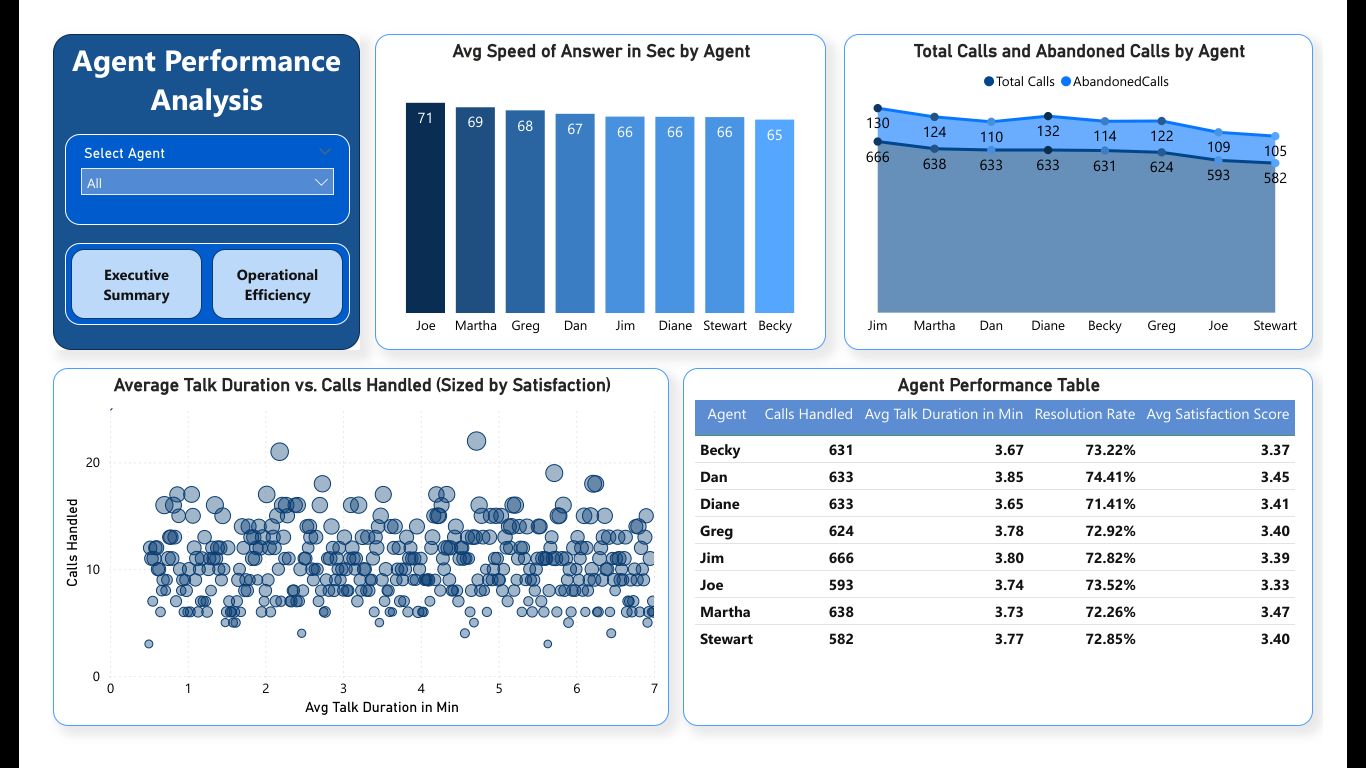

Layout of this report page (visuals, bound fields, positions):
{"tool":"powerbi","page":{"name":"Agent Performance","canvas":[1280,720],"ordinal":2},"visuals":[{"type":"tableEx","title":"Agent Performance Table","fields":{"Values":["CallCentreDataTable.Agent","MeasuresTable.CallsHandled","Avg(CallCentreDataTable.AvgTalkDuration_in_min)","MeasuresTable.Resolution Rate","MeasuresTable.Avg Satisfaction Score"]},"box":[640,344.1,630.4,357.8],"z":0},{"type":"stackedAreaChart","title":"Total Calls and Abandoned Calls by Agent","fields":{"Category":["CallCentreDataTable.Agent"],"Y":["MeasuresTable.Total Calls","MeasuresTable.AbandonedCalls"]},"box":[801,9.6,469.3,316.6],"z":1000},{"type":"clusteredColumnChart","title":"Avg Speed of Answer in Sec by Agent","fields":{"Category":["CallCentreDataTable.Agent"],"Y":["MeasuresTable.AvgSpeedOfAnswer"]},"box":[332.1,10.3,451.1,315.9],"z":2000},{"type":"scatterChart","title":"Average Talk Duration vs. Calls Handled (Sized by Satisfaction)","fields":{"X":["CallCentreDataTable.AvgTalkDuration_in_min"],"Y":["MeasuresTable.CallsHandled"],"Size":["Sum(CallCentreDataTable.Satisfaction rating)"]},"box":[9.6,344.1,616.6,357.8],"z":3000},{"type":"shape","box":[10.3,10.3,307.1,315.9],"z":4000},{"type":"slicer","fields":{"Values":["CallCentreDataTable.Agent"]},"box":[22,110.2,285.1,91.1],"z":6001},{"type":"pageNavigator","box":[22,218.9,285.1,82.3],"z":7001}]}

Visuals, with their boxes in screenshot pixels (x1, y1, x2, y2), scaled from the page's 1280x720 canvas onto the 1366x768 screenshot:
"Agent Performance Table" tableEx: left=683, top=367, right=1356, bottom=749
"Total Calls and Abandoned Calls by Agent" stackedAreaChart: left=855, top=10, right=1356, bottom=348
"Avg Speed of Answer in Sec by Agent" clusteredColumnChart: left=354, top=11, right=836, bottom=348
"Average Talk Duration vs. Calls Handled (Sized by Satisfaction)" scatterChart: left=10, top=367, right=668, bottom=749
shape: left=11, top=11, right=339, bottom=348
slicer - CallCentreDataTable.Agent: left=23, top=118, right=328, bottom=215
pageNavigator: left=23, top=233, right=328, bottom=321
